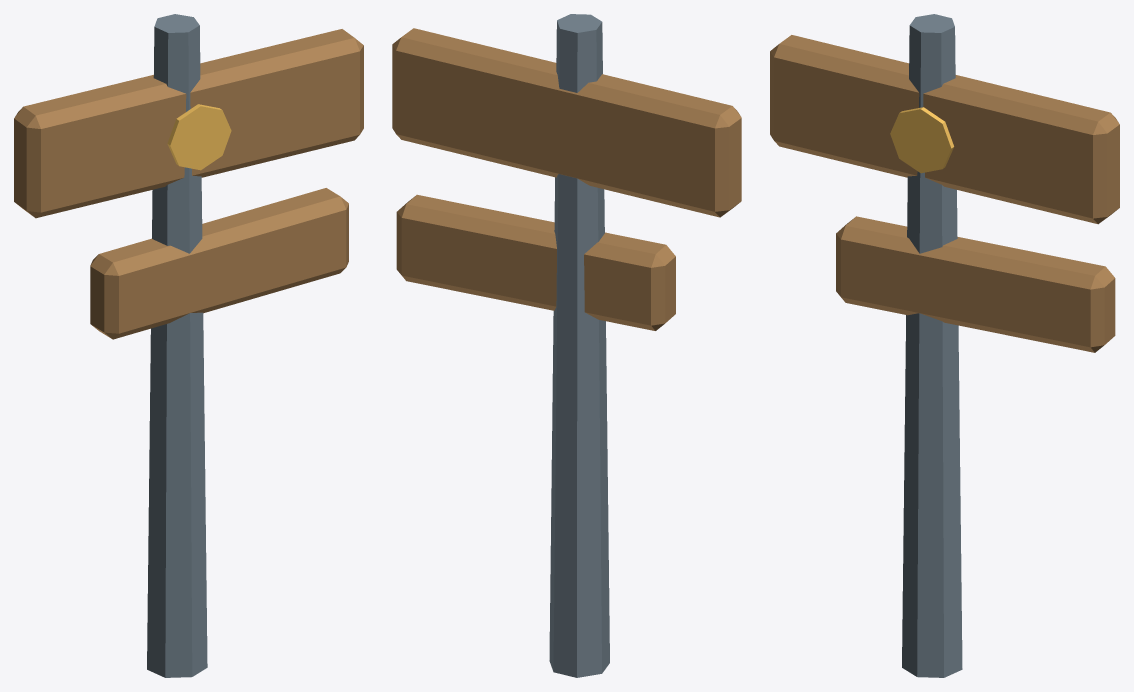
Rendered from enfeite_placa.glb.
3 renders of one model, left to right at view 1: azimuth 30°, elevation 25°; view 2: azimuth 150°, elevation 25°; view 3: azimuth 330°, elevation 25°, orthographic.
Parts seen in each view (by area): view 1: neve_enfeite_placa; view 2: neve_enfeite_placa; view 3: neve_enfeite_placa.
Boxes of the visible parts, bbox=[...] form: neve_enfeite_placa: bbox=[14, 14, 363, 677]; neve_enfeite_placa: bbox=[392, 14, 741, 677]; neve_enfeite_placa: bbox=[770, 14, 1119, 677].
Bounding box in the file's own units: 0.55 × 1 × 0.099.
